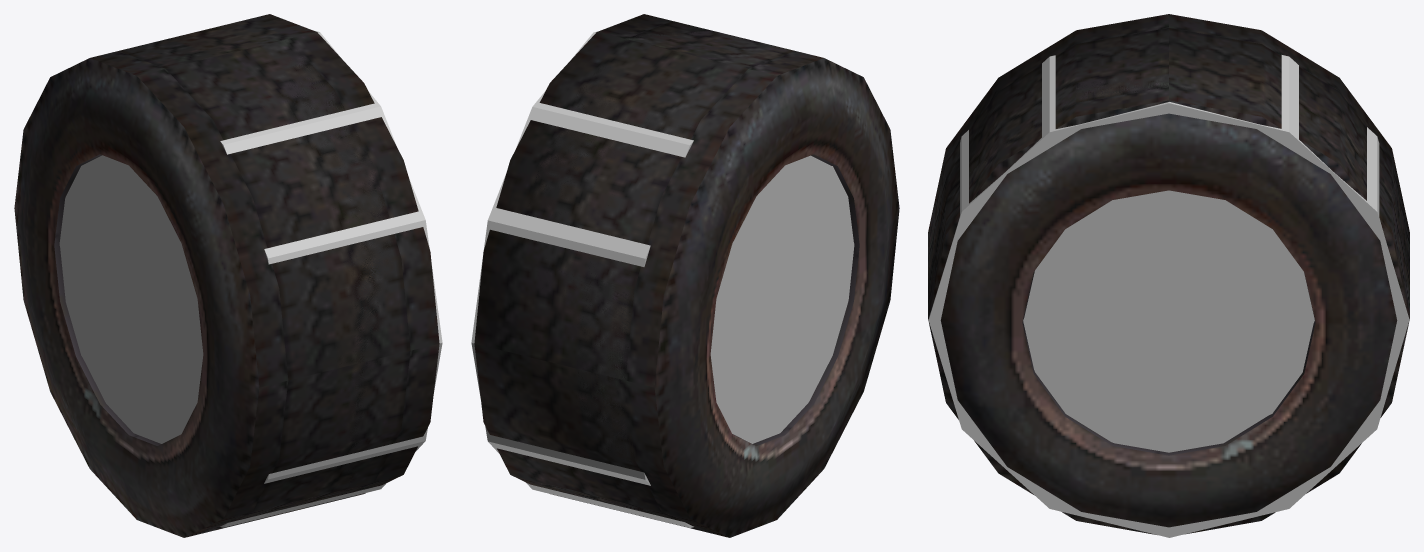
Rendered from tire_14_out.fbx.
The picture shows the model from 3 angles, left to right: view 1: azimuth 30°, elevation 25°; view 2: azimuth 150°, elevation 25°; view 3: azimuth 270°, elevation 25°; orthographic projection.
Parts seen in each view (by area): view 1: tire_rr, tire_rl, tire_rr_shadow, tire_rl_shadow; view 2: tire_rr, tire_rl, tire_rr_shadow, tire_rl_shadow; view 3: tire_rl, tire_rl_shadow, tire_rr.
Boxes of the visible parts, bbox=[...] form: tire_rr: bbox=[14, 45, 410, 537]; tire_rl: bbox=[119, 14, 439, 530]; tire_rr_shadow: bbox=[59, 155, 203, 443]; tire_rl_shadow: bbox=[220, 30, 442, 527]; tire_rr: bbox=[529, 21, 899, 537]; tire_rl: bbox=[474, 14, 794, 530]; tire_rr_shadow: bbox=[710, 155, 854, 443]; tire_rl_shadow: bbox=[471, 31, 693, 527]; tire_rl: bbox=[928, 28, 1409, 534]; tire_rl_shadow: bbox=[928, 55, 1409, 537]; tire_rr: bbox=[928, 14, 1409, 303].
Size of the model in its own units: 0.3491 by 0.7201 by 0.7201.
